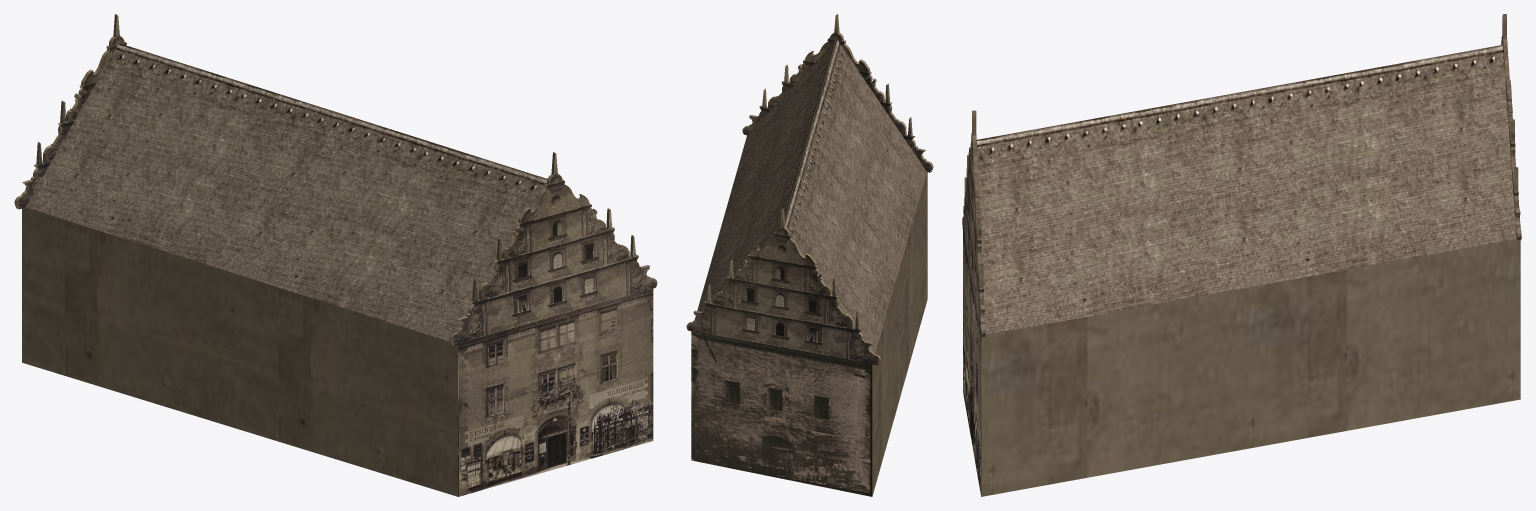
Rendered from fileman.glb.
3 views of the same model, side by side, from view 1: azimuth 30°, elevation 25°; view 2: azimuth 150°, elevation 25°; view 3: azimuth 270°, elevation 25° (orthographic). The views are drawn at different scales.
Visible parts, largest first — view 1: Batched_Building__Teil_3_BD.1; view 2: Batched_Building__Teil_3_BD.1; view 3: Batched_Building__Teil_3_BD.1.
Part boxes in pixels (<box>): Batched_Building__Teil_3_BD.1: <box>14,14,657,496</box>; Batched_Building__Teil_3_BD.1: <box>686,14,933,496</box>; Batched_Building__Teil_3_BD.1: <box>962,14,1521,496</box>.
Size of the model in its own units: 34.74 by 26.4 by 39.62.
Materials: 6 (5 with a texture image).
